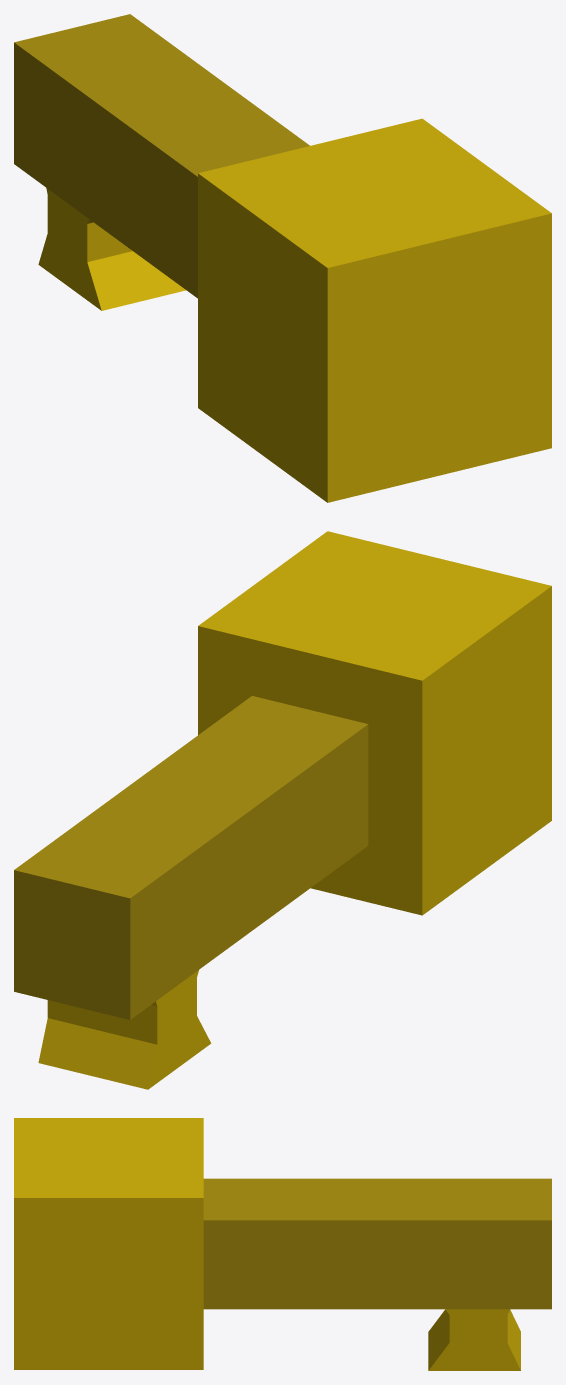
The model's file is key.fbx.
3 views of the same model, one above another, from view 1: azimuth 30°, elevation 25°; view 2: azimuth 150°, elevation 25°; view 3: azimuth 270°, elevation 25° (orthographic). The views are drawn at different scales.
Visible parts, largest first — view 1: Cube; view 2: Cube; view 3: Cube.
Boxes of the visible parts, <box> form: Cube: <box>14,14,551,502</box>; Cube: <box>14,531,551,1089</box>; Cube: <box>14,1118,551,1370</box>.
Bounding box in the file's own units: 36.46 × 41.02 × 103.
